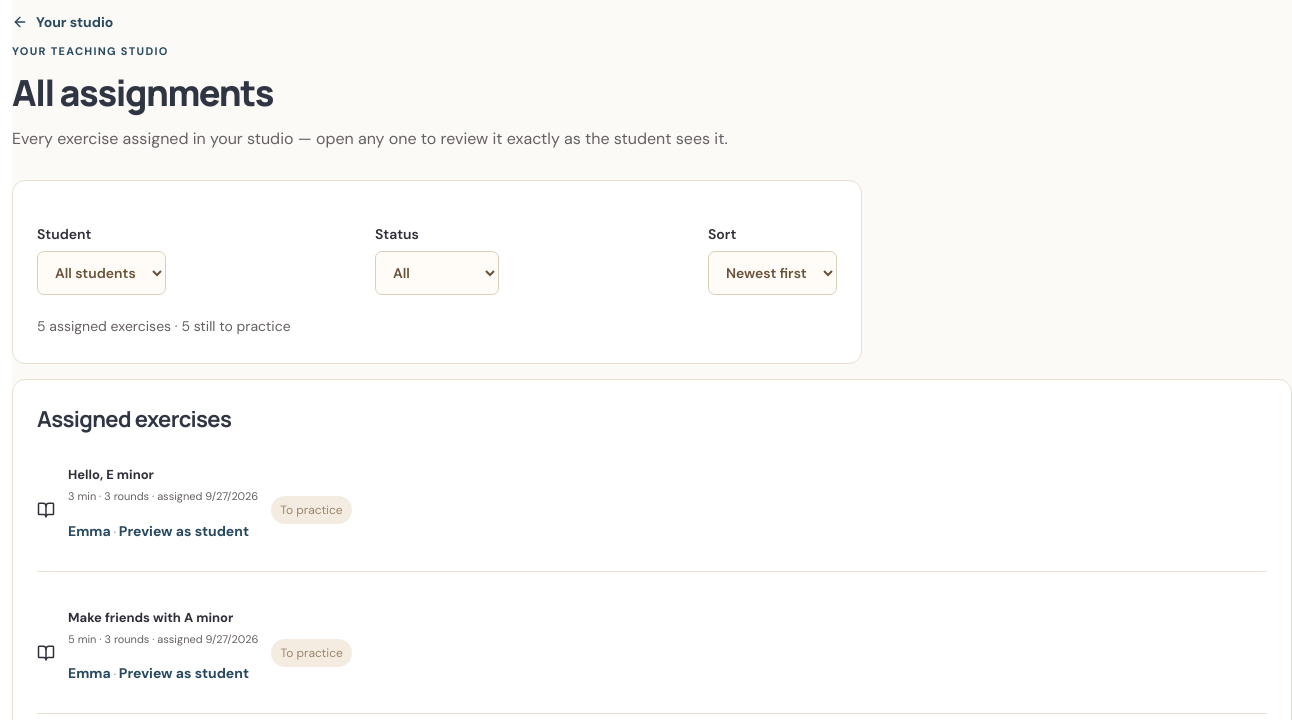
Test case: filters the overview by student
This screenshot has width=1292, height=720.
Select "Noah" in the dropdown labelled "Student" at (102, 273), box [37,251,166,295]
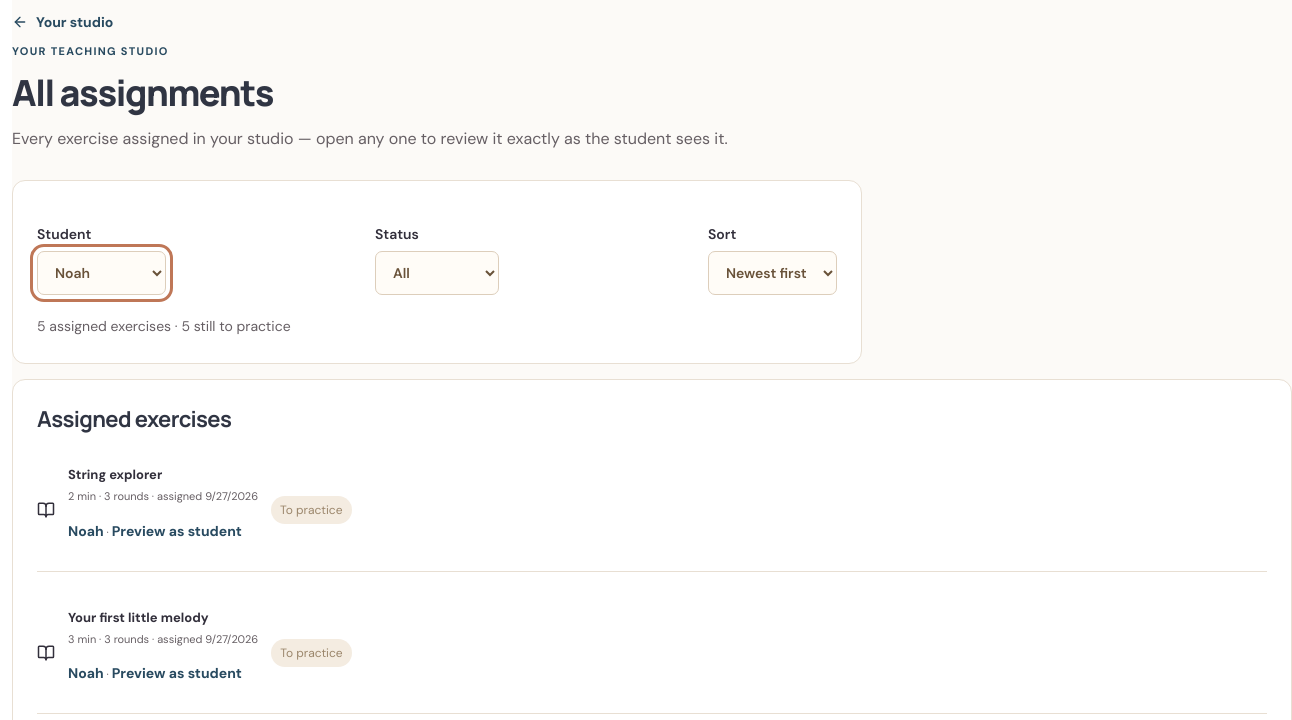
Expected: the text "String explorer" is shown, [68,466,162,483]
Now the text "Hello, E minor" is gone
Select "All students" in the dropdown labelled "Student" at (102, 273), box [37,251,166,295]
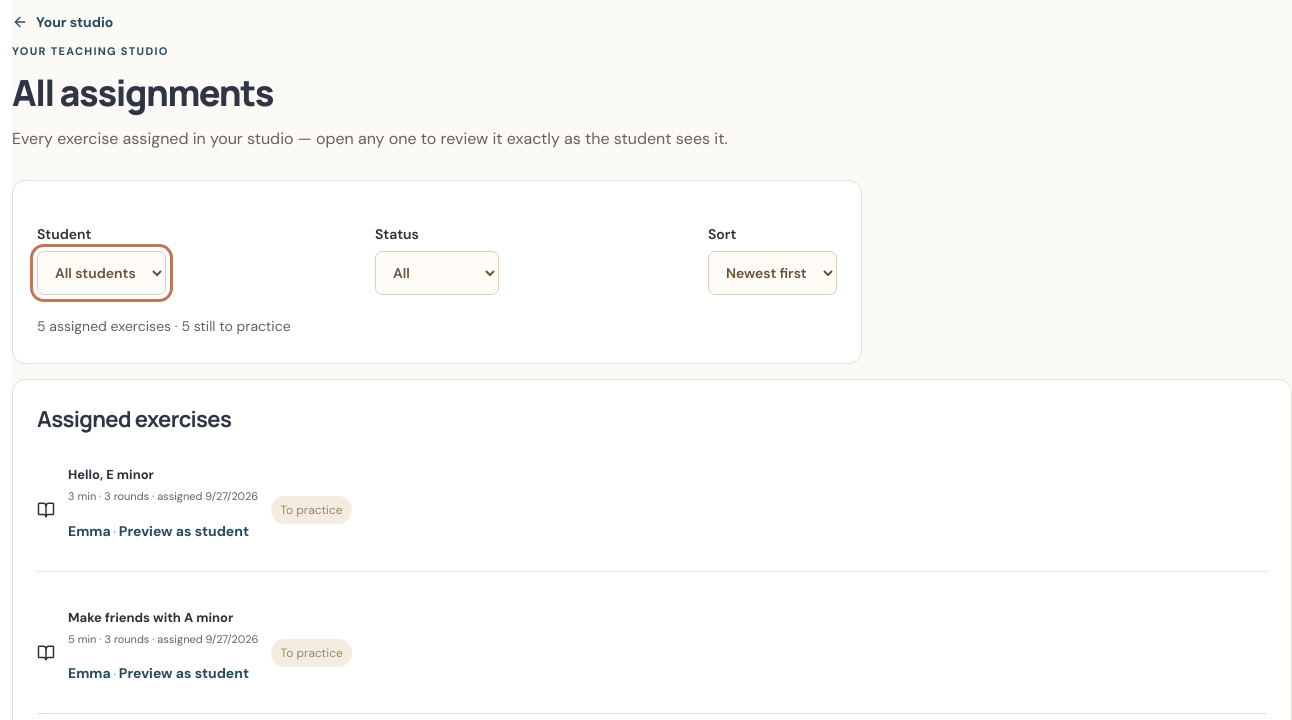
Now the text "Hello, E minor" is shown, box [68,466,154,483]
